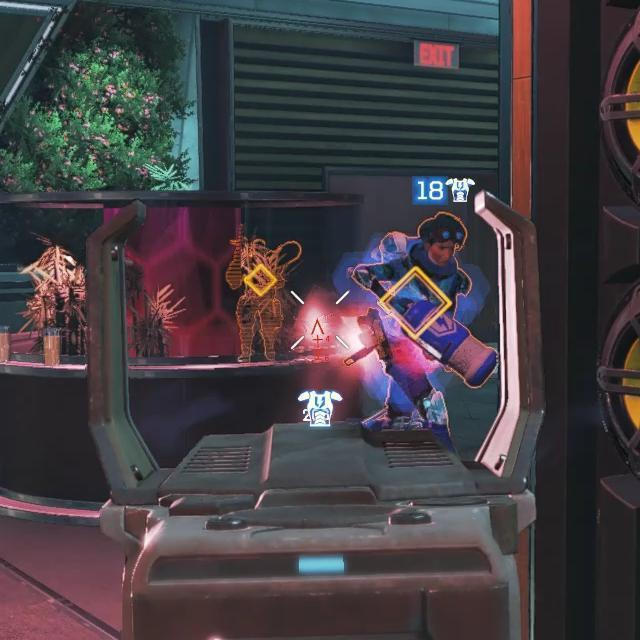avatar: (340, 212, 499, 431)
object: (378, 266, 453, 339), (244, 262, 279, 299)
